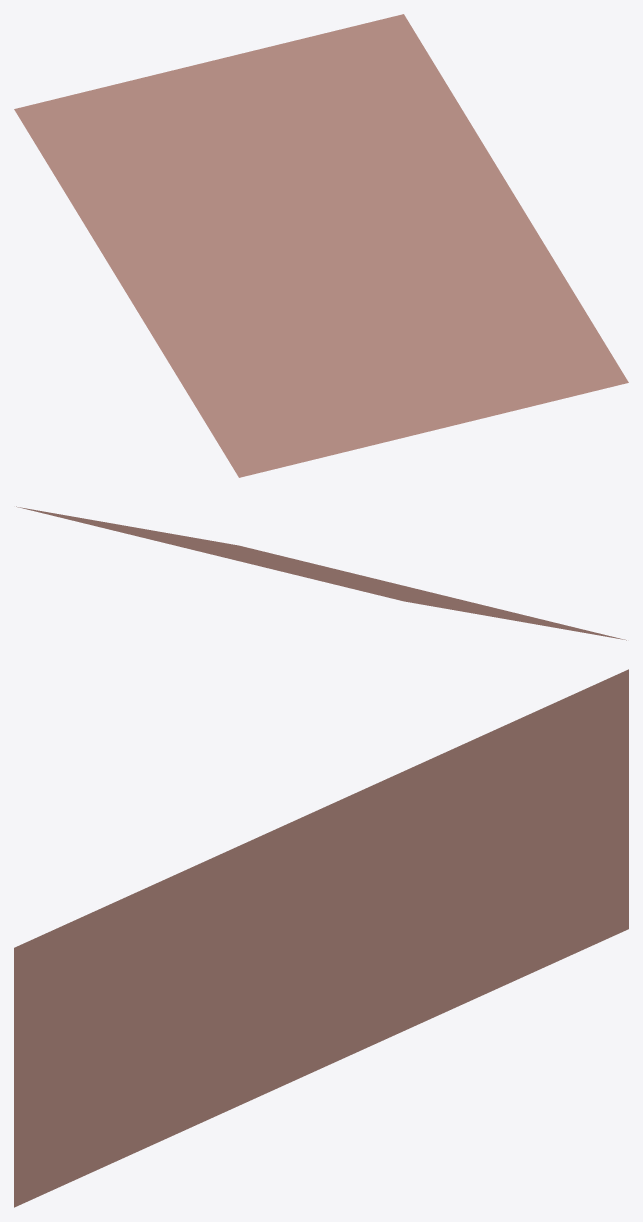
Rendered from RoofSlope.glb.
The picture shows the model from 3 angles, top to bottom: view 1: azimuth 30°, elevation 25°; view 2: azimuth 150°, elevation 25°; view 3: azimuth 270°, elevation 25°; orthographic projection. The views are drawn at different scales.
Parts seen in each view (by area): view 1: PBK_Indochine_RoofSlope_Roof_Surface.001; view 2: PBK_Indochine_RoofSlope_Roof_Surface.001; view 3: PBK_Indochine_RoofSlope_Roof_Surface.001.
Part boxes in pixels (x1=…): PBK_Indochine_RoofSlope_Roof_Surface.001: x1=14, y1=14, x2=628, y2=477; PBK_Indochine_RoofSlope_Roof_Surface.001: x1=16, y1=506, x2=626, y2=640; PBK_Indochine_RoofSlope_Roof_Surface.001: x1=14, y1=669, x2=628, y2=1207.
Bounding box in the file's own units: 2 × 1 × 2.
